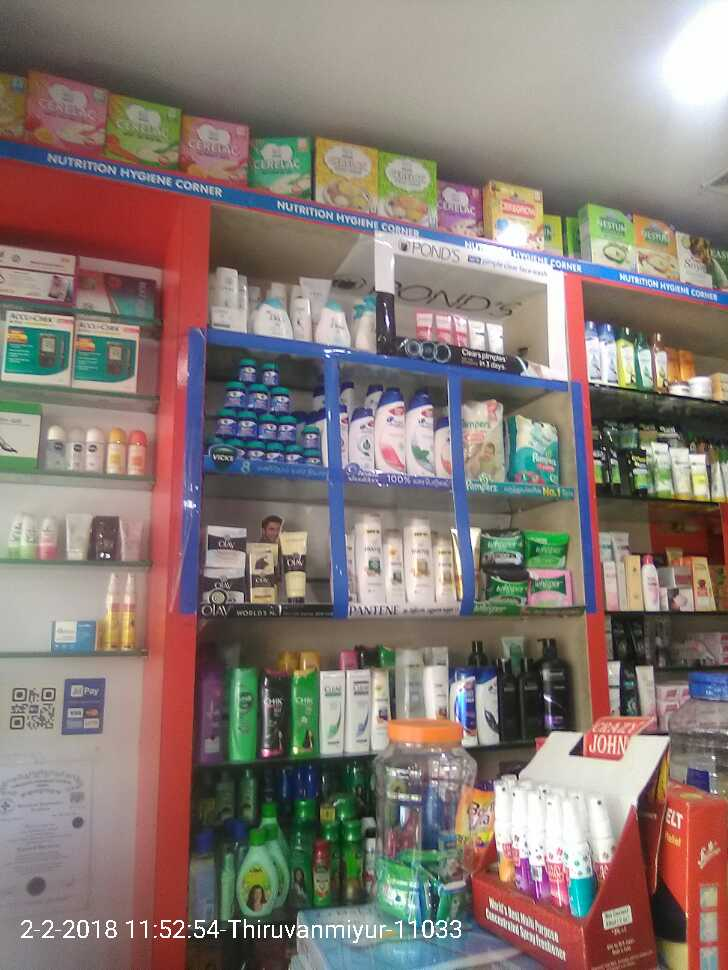vicks: (214, 359, 322, 469)
